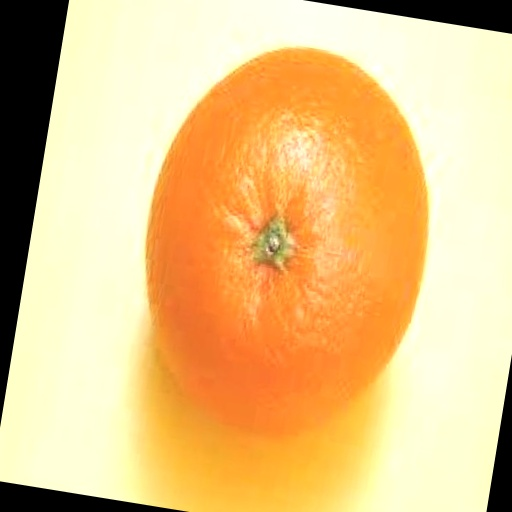fruit: (146, 48, 427, 433)
